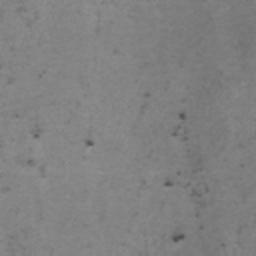Oxide scale of temperature system: (161, 156, 210, 197), (172, 109, 189, 142), (26, 156, 46, 179), (170, 230, 187, 246), (32, 123, 45, 138), (84, 137, 96, 148), (6, 76, 18, 84), (0, 184, 12, 192), (219, 239, 229, 248), (142, 91, 152, 99)
